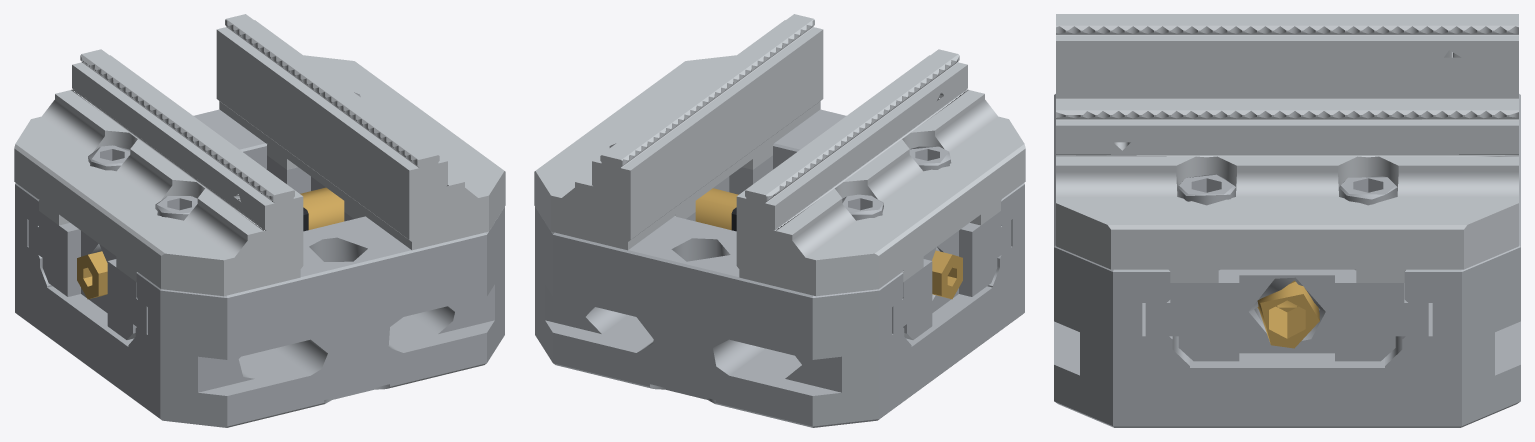
File: vise-asc-127x130m.glb
3 views of the same model, side by side, from view 1: azimuth 30°, elevation 25°; view 2: azimuth 150°, elevation 25°; view 3: azimuth 270°, elevation 25° (orthographic). The views are drawn at different scales.
Parts seen in each view (by area): view 1: body_mesh; view 2: body_mesh; view 3: body_mesh.
Part boxes in pixels (box(x1,y1,x2,y2)): body_mesh: box(14, 14, 505, 427); body_mesh: box(534, 14, 1025, 427); body_mesh: box(1054, 14, 1520, 427).
Size of the model in its own units: 130 by 80.01 by 127.
